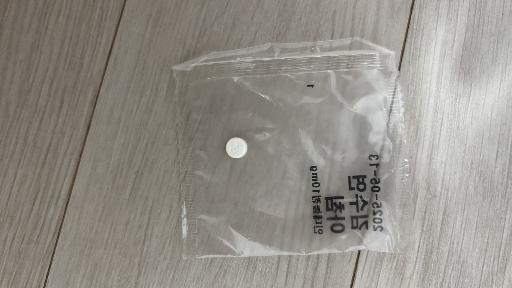Indenol: (172, 38, 413, 258), (226, 137, 247, 158)
